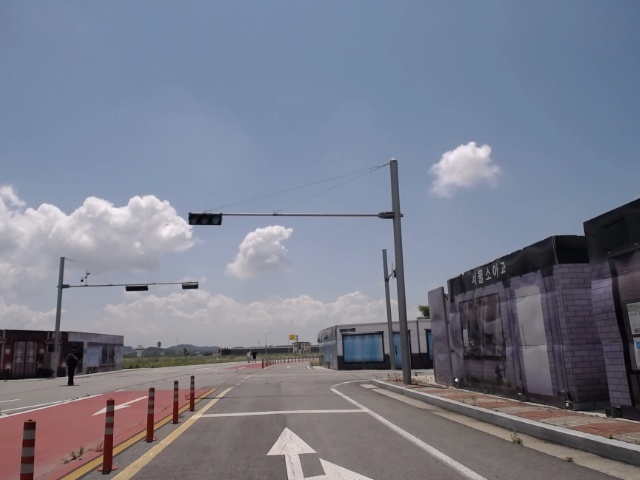green_3: (189, 214, 221, 225)
